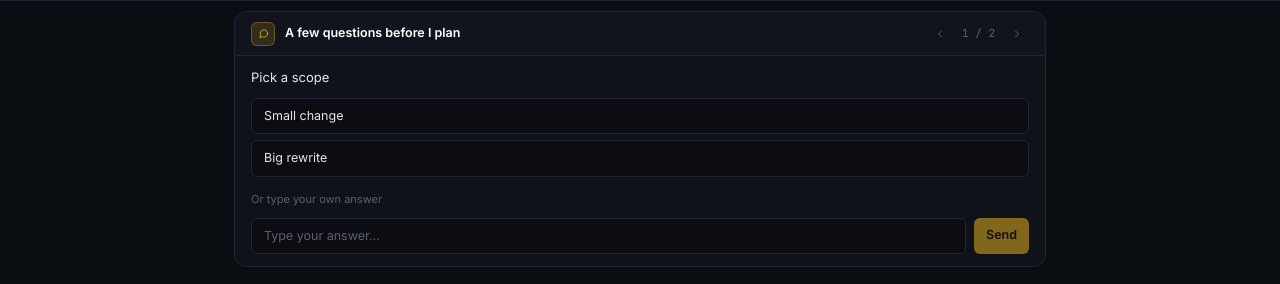
QuestionsDock › clicking a choice option advances the index ('2 / N')
Click the button "Small change" at (304, 115), box [251, 98, 1029, 134]
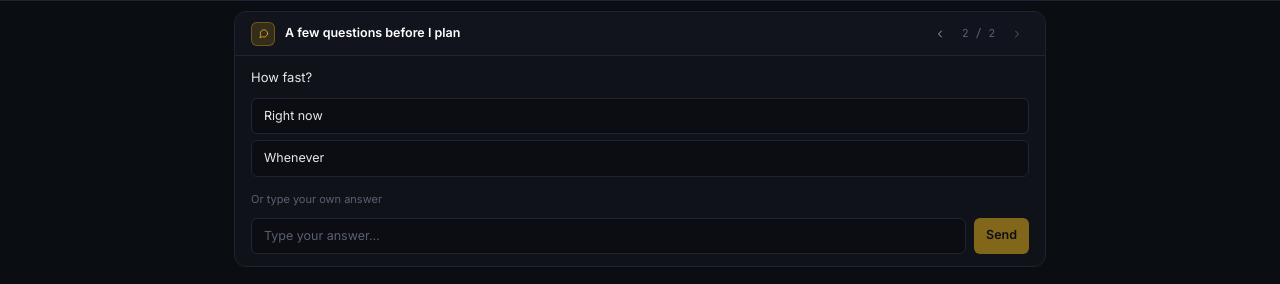
Expected: the text "How fast?" is shown, [251, 69, 312, 85]
Expected: the text "2 / 2" is shown, [962, 25, 995, 42]
